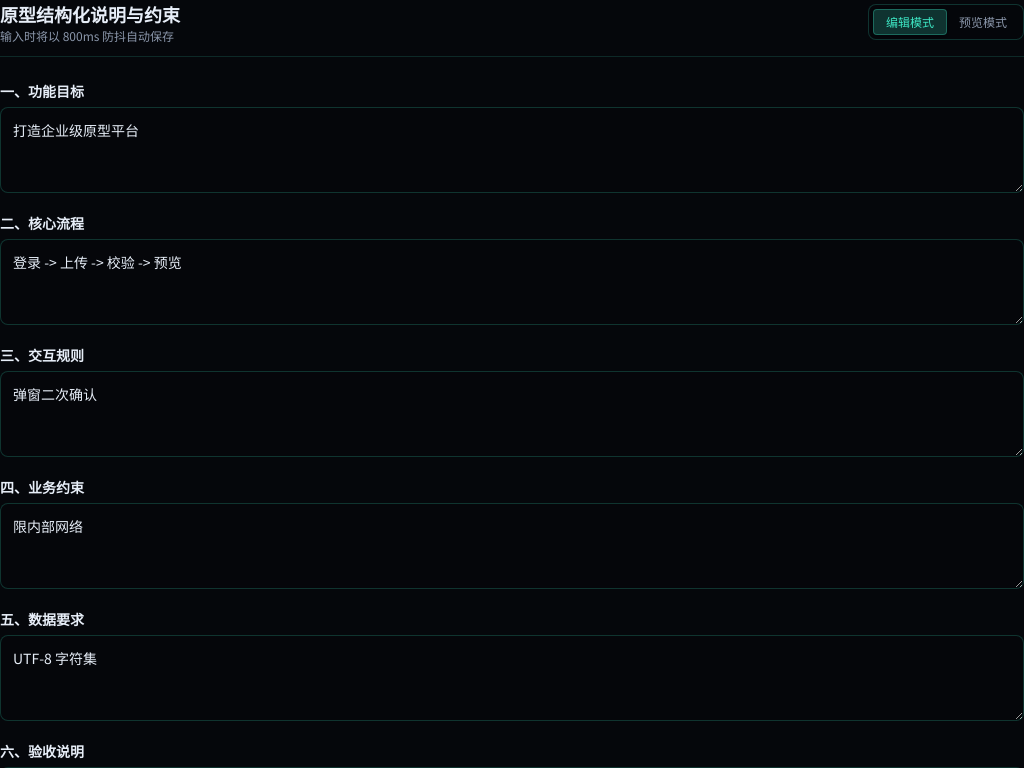
Test case: PrototypeSpecEditor › loads and renders structured spec sections and switches to preview
The image size is (1024, 768).
Expected: the text box showing "打造企业级原型平台" below "一、功能目标" is shown, x1=0 y1=107 x2=1023 y2=193
Expected: the text box showing "登录 -> 上传 -> 校验 -> 预览" below "二、核心流程" is shown, x1=0 y1=239 x2=1023 y2=325
# Switch to preview mode
Click the button "预览模式".
click(983, 22)  # box x1=947 y1=9 x2=1019 y2=35
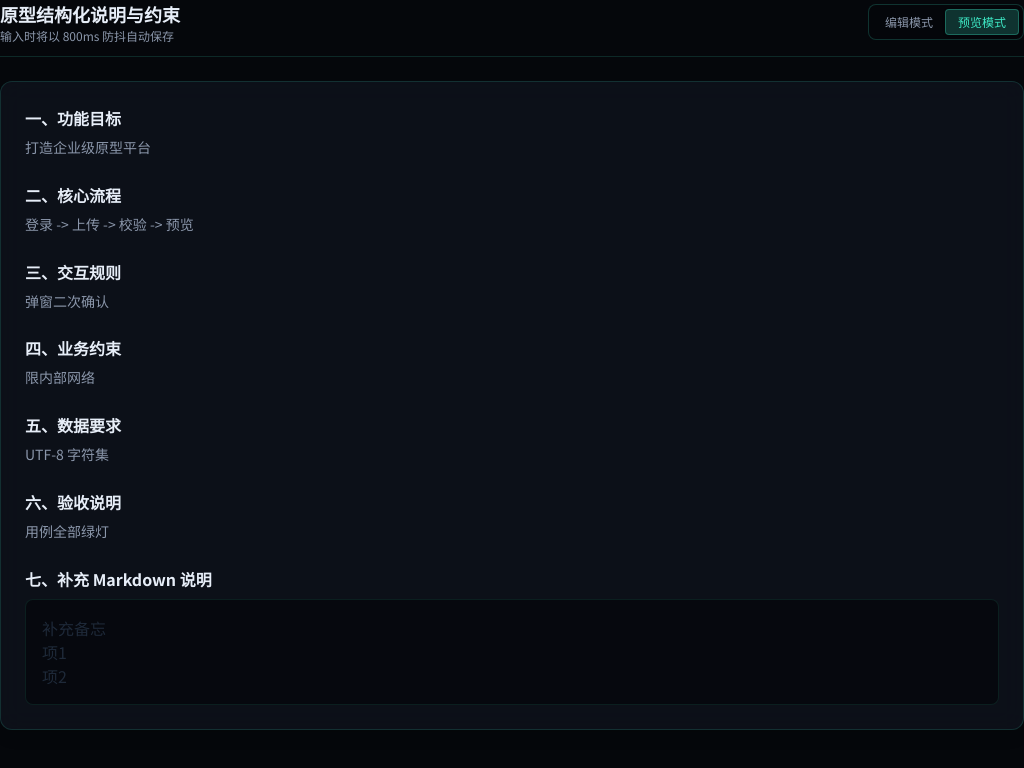
Expected: the text "打造企业级原型平台" is shown, x1=25 y1=137 x2=151 y2=157
Expected: the heading "补充备忘" is shown, x1=42 y1=616 x2=106 y2=640
